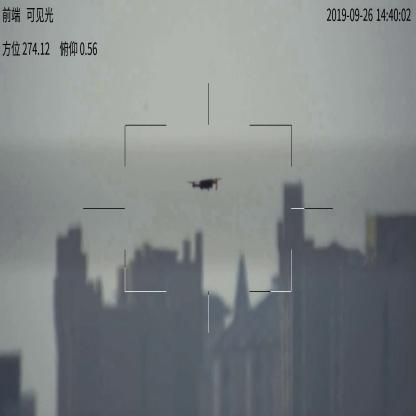uav: (186, 176, 224, 192)
